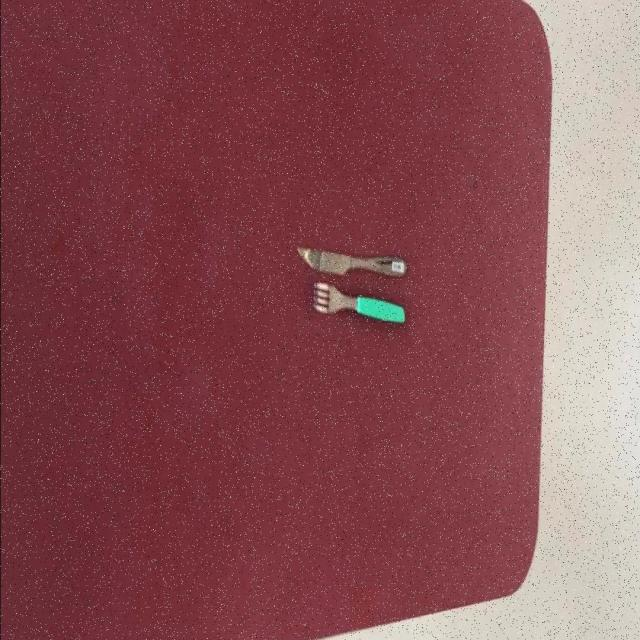Fork: (312, 280, 406, 323), (297, 244, 406, 276)
Knife: (312, 280, 406, 323), (297, 244, 406, 276)
